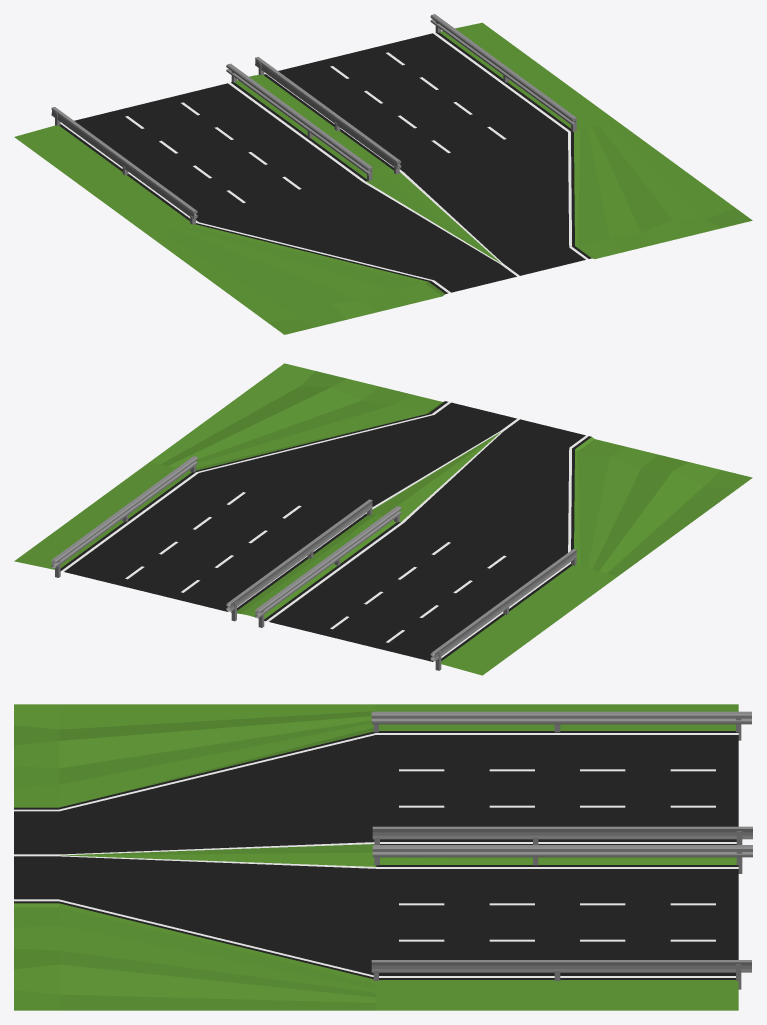
File: street_TRANS_landTOhway.fbx
3 renders of one model, top to bottom at view 1: azimuth 30°, elevation 25°; view 2: azimuth 150°, elevation 25°; view 3: azimuth 270°, elevation 25°, orthographic. The views are drawn at different scales.
Parts seen in each view (by area): view 1: street_TRANS_landTOhway; view 2: street_TRANS_landTOhway; view 3: street_TRANS_landTOhway.
Boxes of the visible parts, x1,y1,x2,y2 form: street_TRANS_landTOhway: (14, 14, 752, 334); street_TRANS_landTOhway: (14, 363, 752, 675); street_TRANS_landTOhway: (14, 704, 752, 1010).
Bounding box in the file's own units: 3200 × 160 × 3263.
